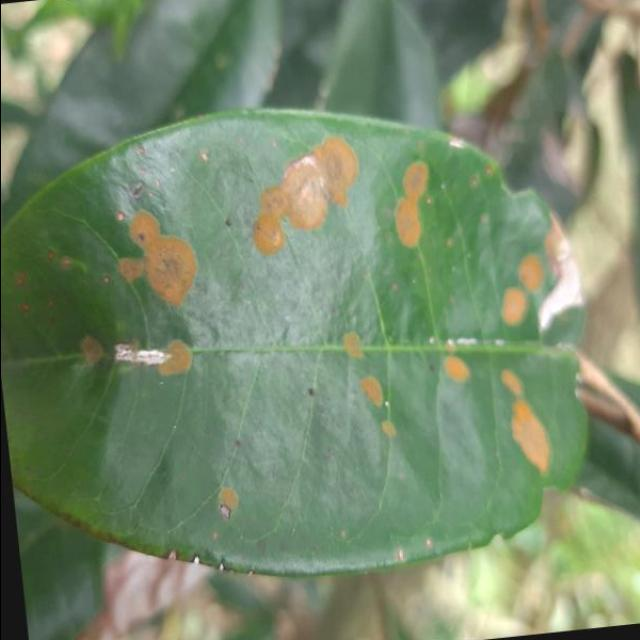Algal Leaf Spot: (0, 66, 615, 612)
